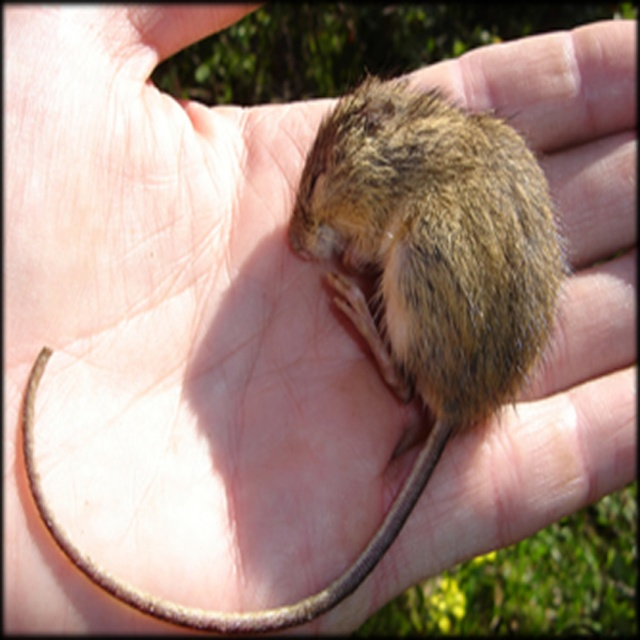Mouse: (18, 68, 573, 637)
